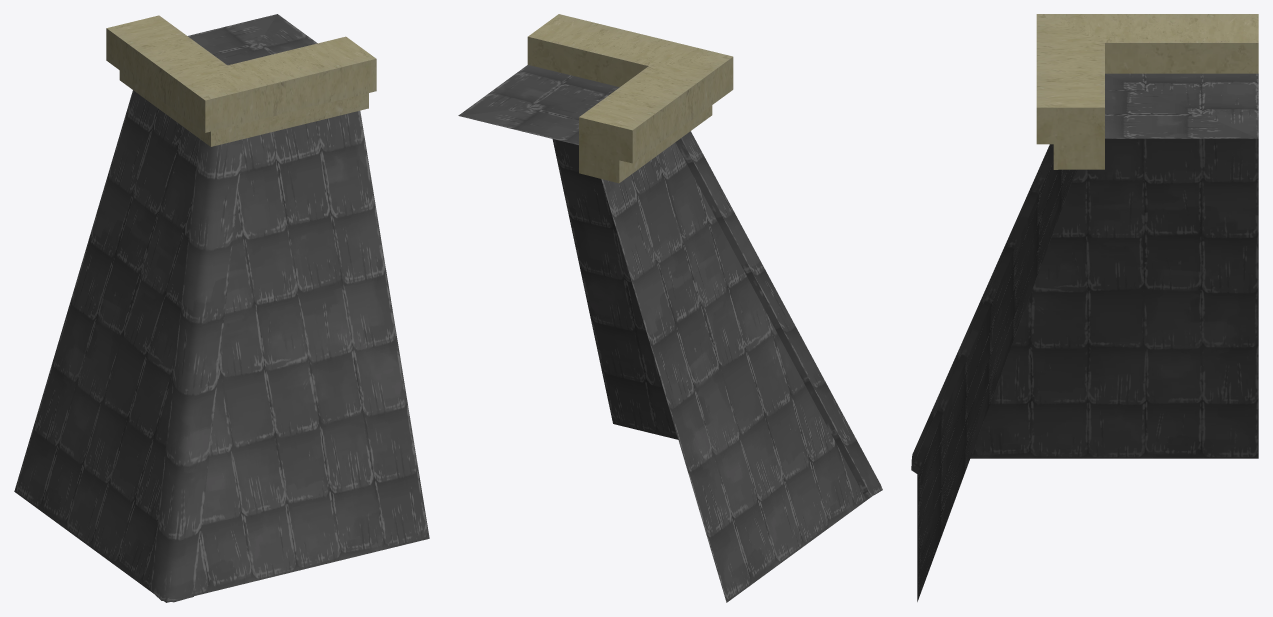
File: Roof_SlateCornice_Corner.glb
3 renders of one model, left to right at view 1: azimuth 30°, elevation 25°; view 2: azimuth 150°, elevation 25°; view 3: azimuth 270°, elevation 25°, orthographic. The views are drawn at different scales.
Visible parts, largest first — view 1: Roof_SlateCornice_Corner; view 2: Roof_SlateCornice_Corner; view 3: Roof_SlateCornice_Corner.
Part boxes in pixels (x1,y1,x2,y2): Roof_SlateCornice_Corner: [14, 14, 429, 602]; Roof_SlateCornice_Corner: [458, 14, 882, 602]; Roof_SlateCornice_Corner: [911, 14, 1258, 601].
Size of the model in its own units: 2.02 by 3.21 by 2.03.
2 materials, 2 textured.
